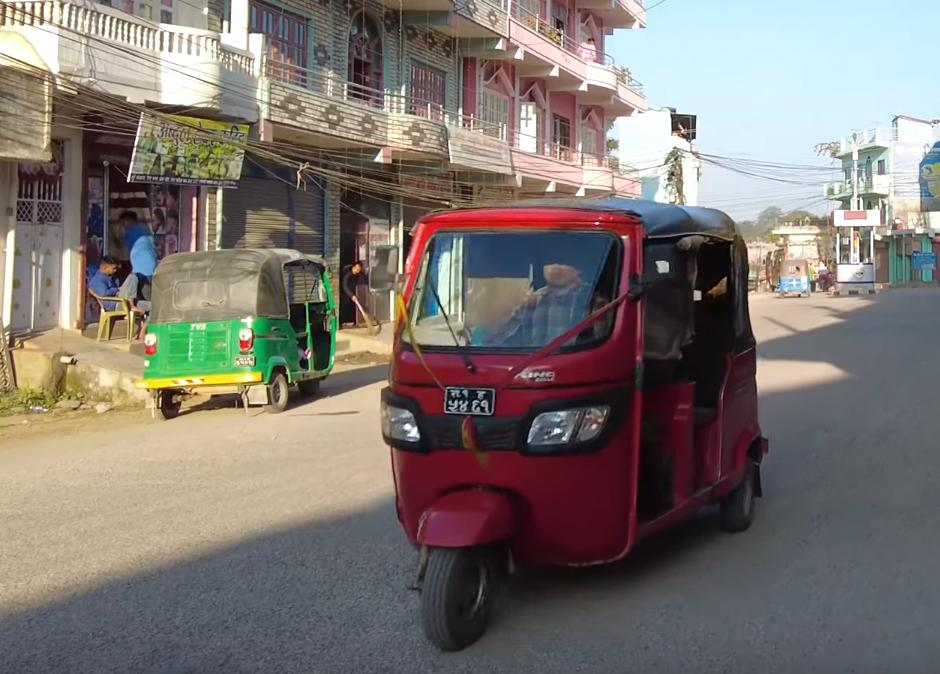auto_rickshaw: (372, 184, 774, 655), (139, 247, 343, 425), (775, 256, 813, 304)
